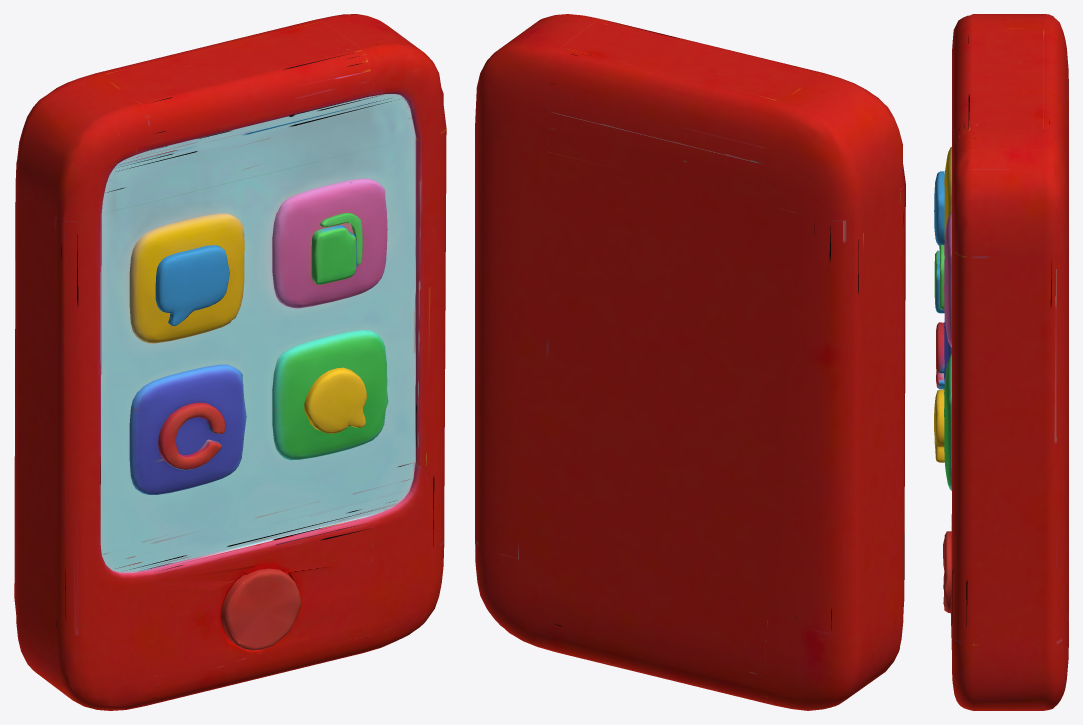
File: phone.glb
The picture shows the model from 3 angles, left to right: view 1: azimuth 30°, elevation 25°; view 2: azimuth 150°, elevation 25°; view 3: azimuth 270°, elevation 25°; orthographic projection. The views are drawn at different scales.
Visible parts, largest first — view 1: geometry_0; view 2: geometry_0; view 3: geometry_0.
Boxes of the visible parts, left/top/right/bottom form: geometry_0: left=14, top=14, right=446, bottom=710; geometry_0: left=475, top=14, right=905, bottom=710; geometry_0: left=934, top=14, right=1068, bottom=710.
Bounding box in the file's own units: 0.6372 × 0.9512 × 0.2051.
1 material, 1 textured.
